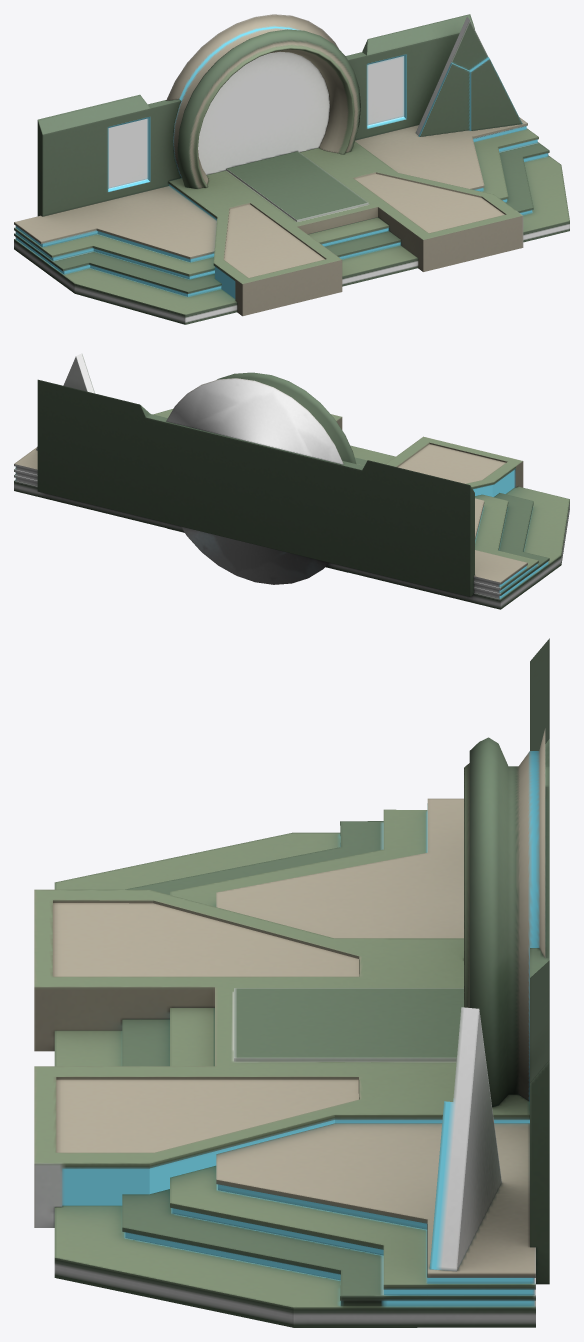
The model's file is SanKhau.fbx.
3 renders of one model, top to bottom at view 1: azimuth 30°, elevation 25°; view 2: azimuth 150°, elevation 25°; view 3: azimuth 270°, elevation 25°, orthographic. The views are drawn at different scales.
Parts seen in each view (by area): view 1: Plane.002; view 2: Plane.002; view 3: Plane.002.
Part boxes in pixels (left/top/right/bottom): Plane.002: left=14, top=14, right=569, bottom=324; Plane.002: left=14, top=353, right=569, bottom=609; Plane.002: left=34, top=638, right=549, bottom=1327.
Size of the model in its own units: 4688 by 1853 by 2149.
1 material, 1 textured.
